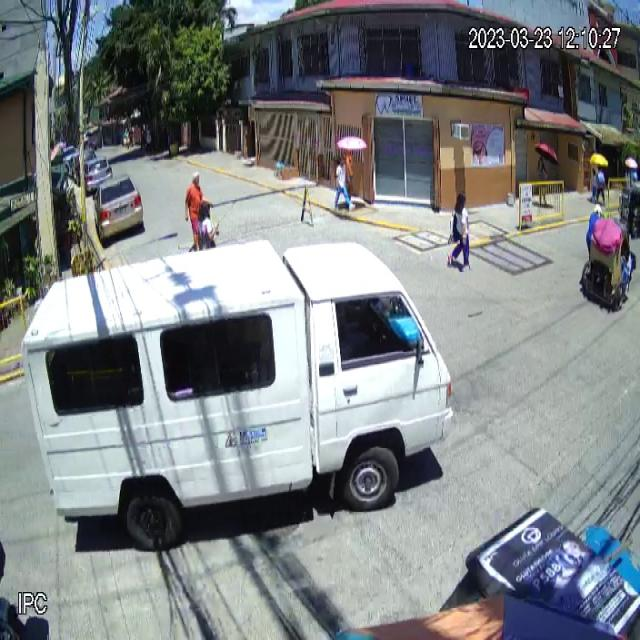Van: (19, 238, 456, 557)
